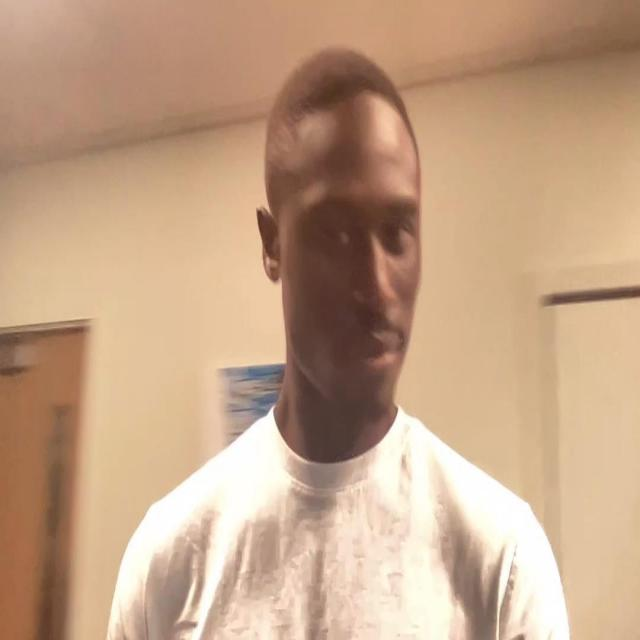face: (268, 101, 423, 417)
